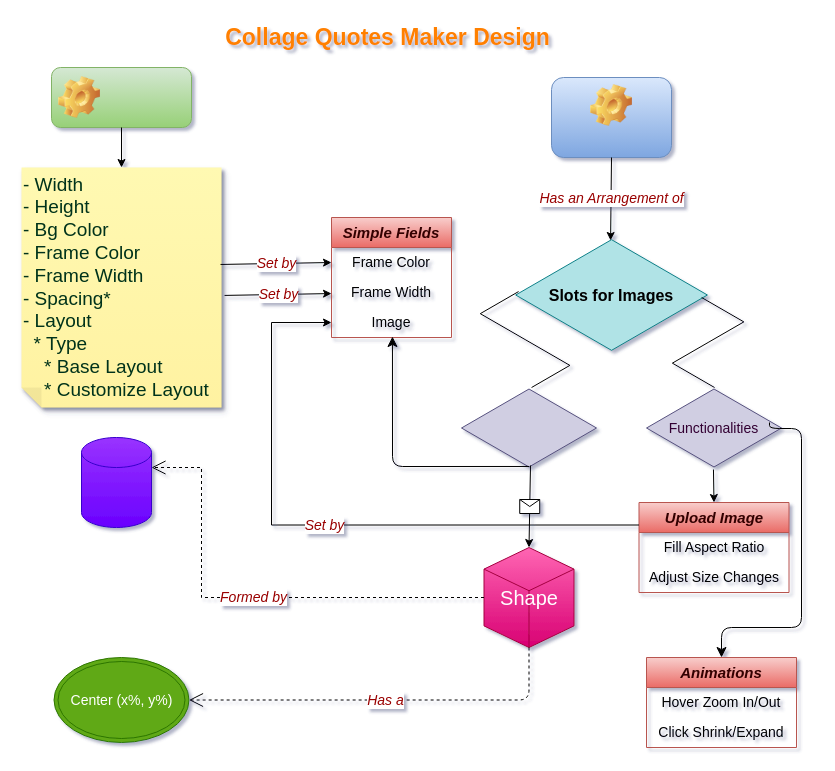
Image size: 835x771. Some labels were removed from this diagram. Each missing label, with the centre of its shape:
"Characteristics" goes at (528,427).
"Controls" goes at (121,97).
"Layout" goes at (611,117).
"Vertices (x%, y%)" goes at (116,482).
